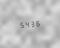five: (18, 21, 23, 28)
four: (24, 20, 29, 28)
six: (36, 19, 41, 26)
three: (30, 19, 35, 27)
